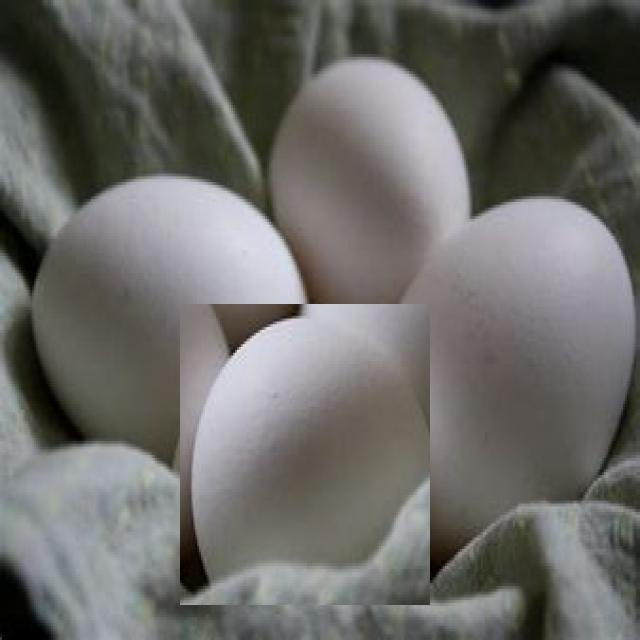Egg: (180, 304, 430, 605)
